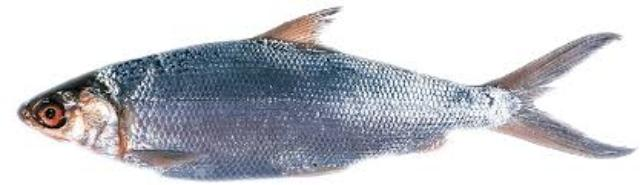Mulut: (10, 78, 60, 154)
Sirip Dada: (108, 138, 216, 182)
Sirip Ekor: (465, 21, 639, 172)
Sirip Punggung: (241, 1, 361, 69)
